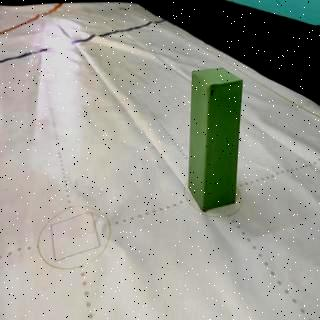greenbox: (189, 65, 245, 212)
